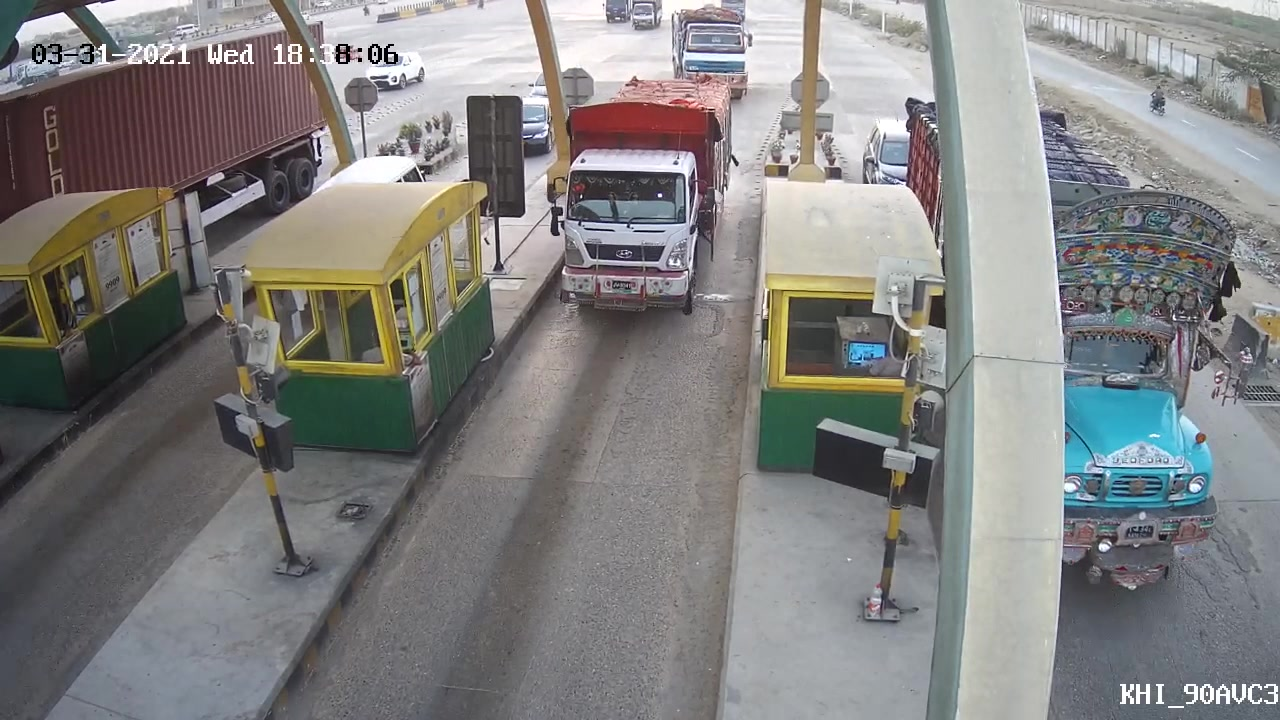F5: (537, 68, 738, 323)
